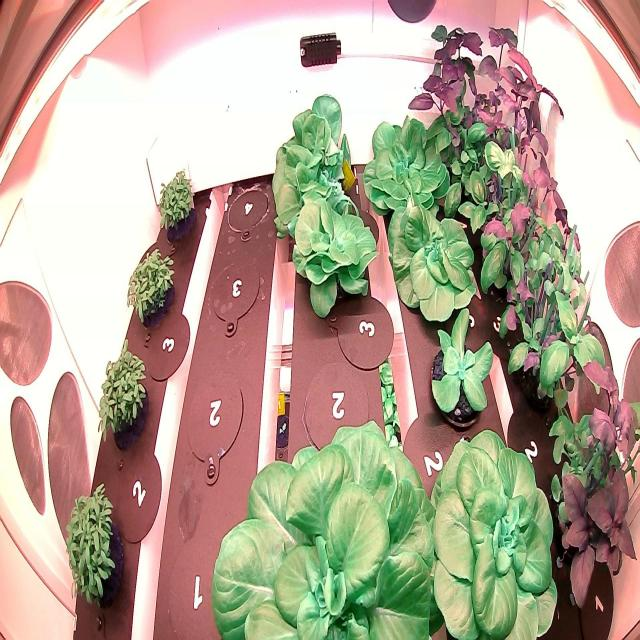Ready: (205, 415, 445, 640)
empty_pod: (160, 524, 246, 640), (296, 354, 381, 460), (179, 364, 249, 478), (206, 249, 265, 331), (225, 177, 271, 242)
young: (424, 423, 566, 640), (268, 88, 362, 243), (384, 188, 478, 332), (288, 187, 379, 321), (360, 109, 455, 224), (425, 300, 497, 434)
